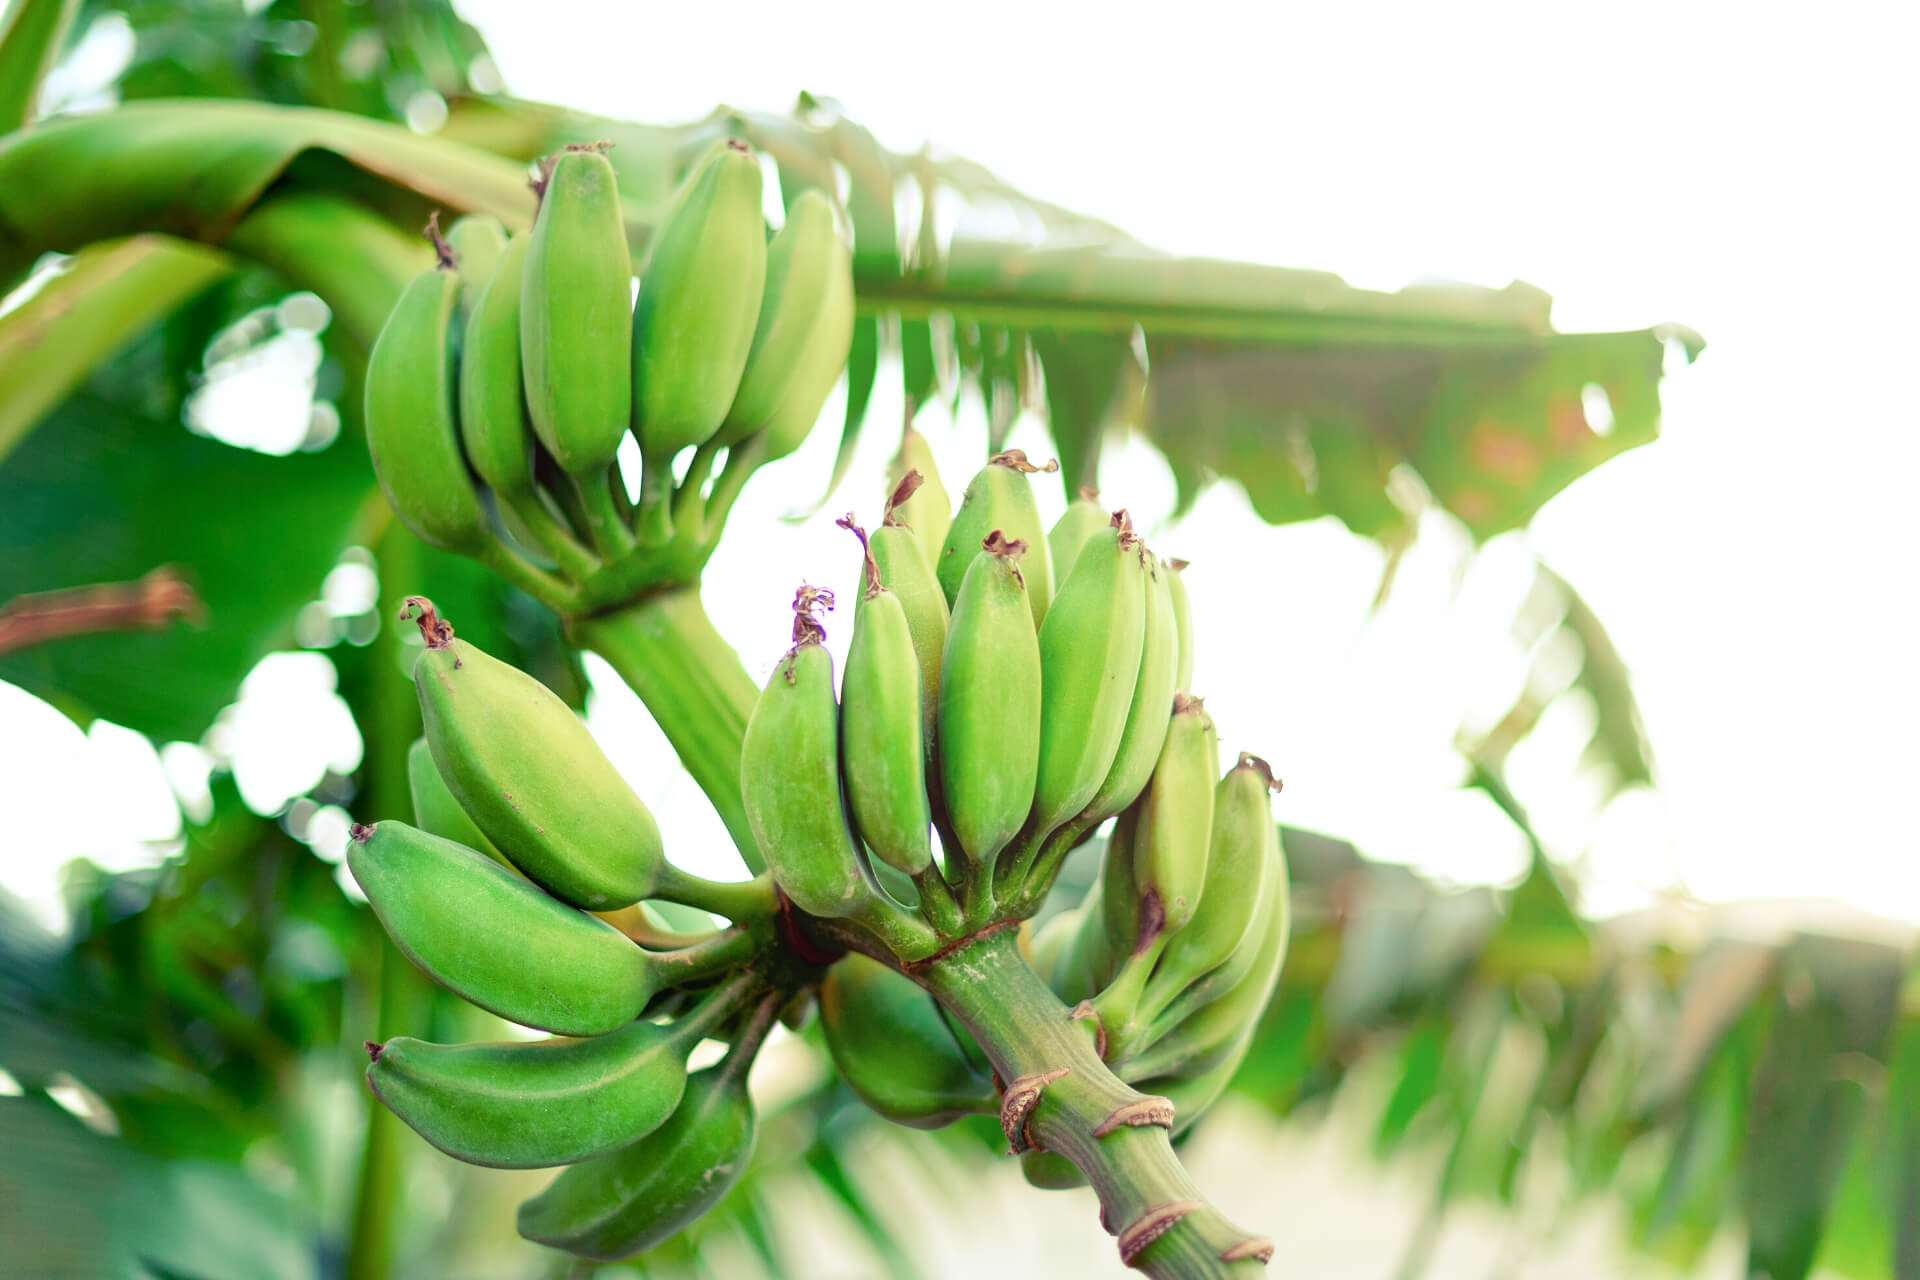looks_defective: (220, 97, 1313, 1280)
